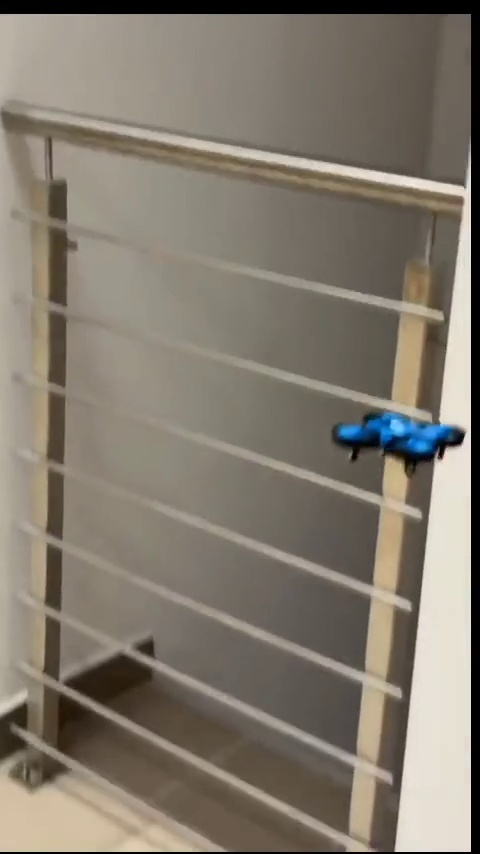drone: (328, 408, 466, 473)
